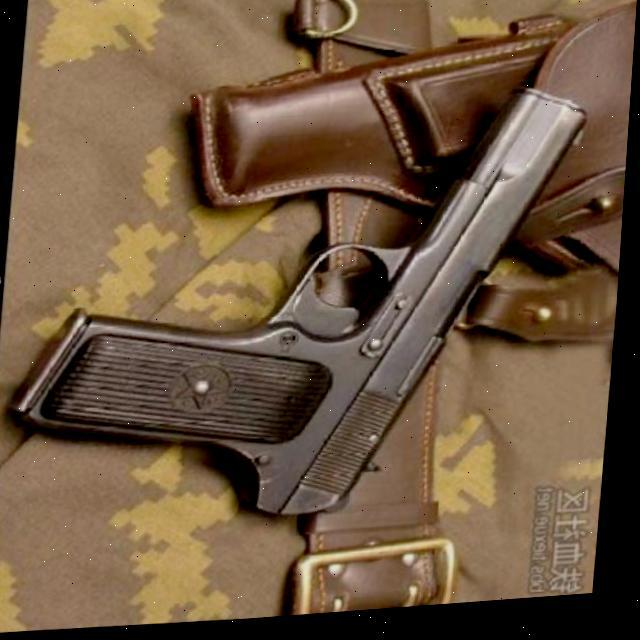gun: (8, 80, 600, 552)
